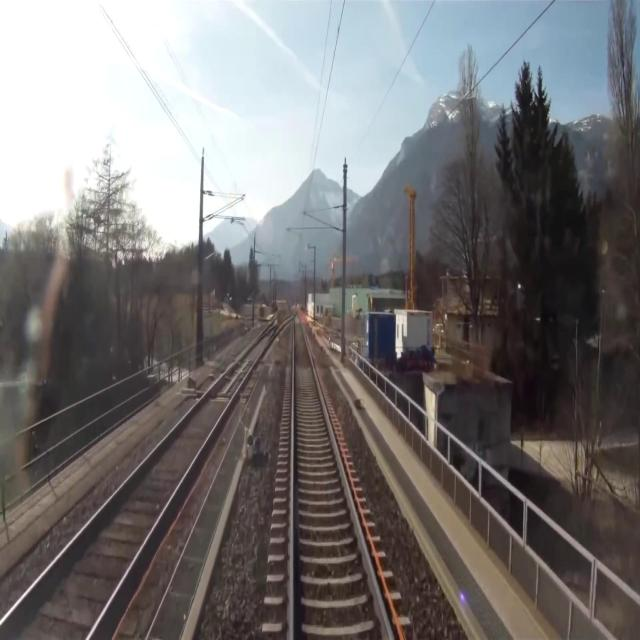rail-track: (0, 330, 272, 639), (294, 313, 389, 639)
